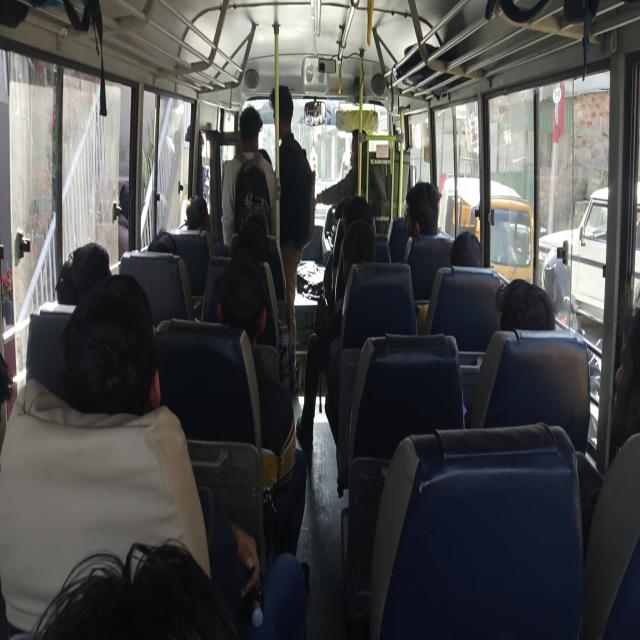person: (59, 272, 308, 638), (215, 256, 308, 563), (27, 536, 239, 639), (580, 305, 640, 638), (296, 218, 376, 450), (465, 278, 556, 427), (268, 84, 316, 350), (220, 105, 276, 246), (416, 230, 483, 334), (315, 129, 386, 212), (610, 305, 639, 451), (55, 241, 112, 305), (495, 278, 556, 331), (403, 180, 449, 238), (449, 230, 483, 267), (185, 194, 211, 232), (146, 229, 176, 253)
